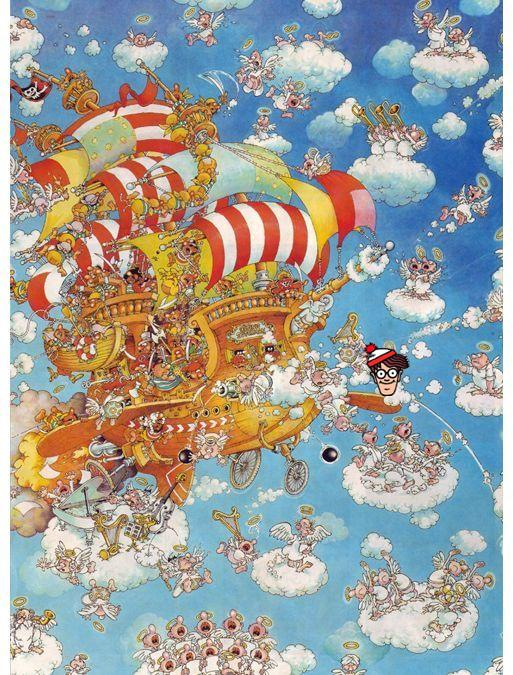waldo: (364, 342, 410, 396)
